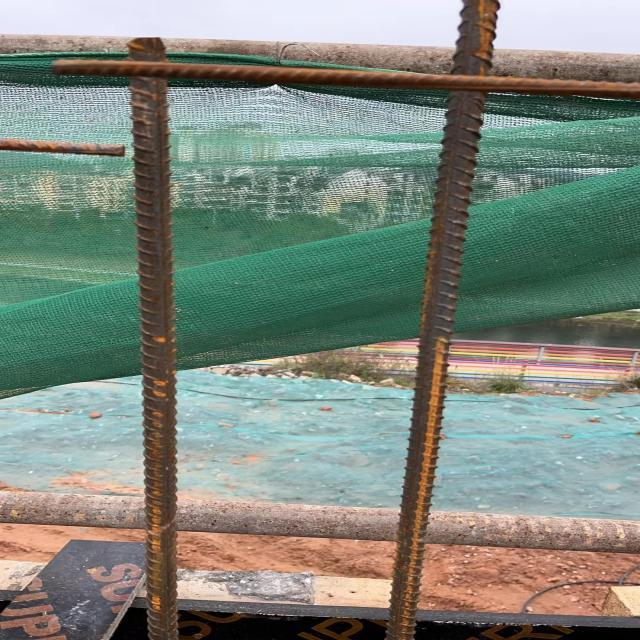ribbed bar: (381, 0, 500, 639), (125, 37, 179, 639), (54, 57, 639, 98), (0, 136, 122, 158)
